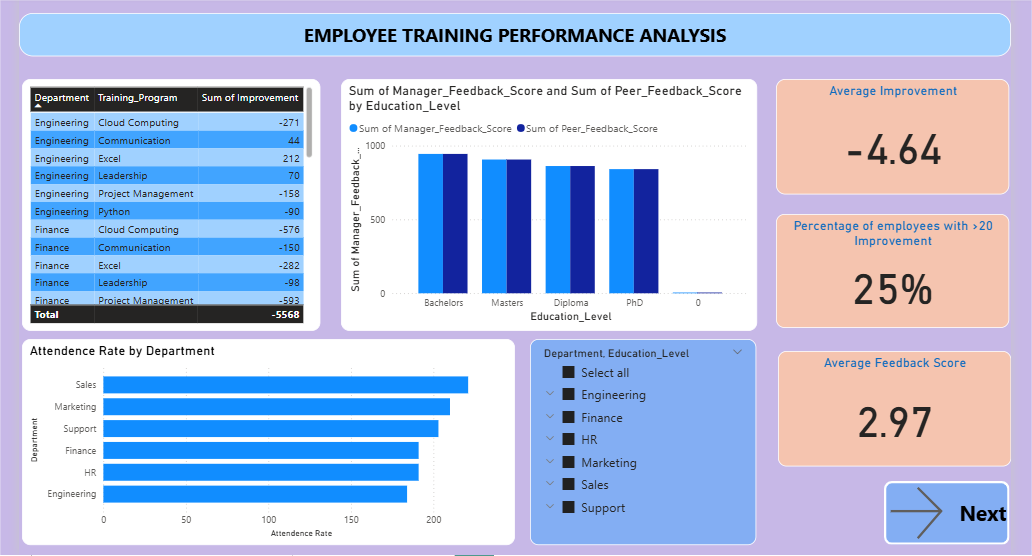

The dashboard page shown, as its layout file describes it:
{"tool":"powerbi","page":{"name":"Employee Training Performance Analysis","canvas":[1280,720],"ordinal":0},"visuals":[{"type":"textbox","box":[0,20.6,1280,56.4],"z":0},{"type":"tableEx","fields":{"Values":["employee_training_performance_d.Department","employee_training_performance_d.Training_Program","Sum(employee_training_performance_d.Improvement)"]},"box":[3.9,105.8,384.5,325.2],"z":1000},{"type":"clusteredColumnChart","fields":{"Category":["employee_training_performance_d.Education_Level"],"Y":["Sum(employee_training_performance_d.Manager_Feedback_Score)","Sum(employee_training_performance_d.Peer_Feedback_Score)"]},"box":[415.7,106,536.8,324.8],"z":2000},{"type":"barChart","fields":{"Category":["employee_training_performance_d.Department"],"Y":["employee_training_performance_d.Attendence Rate"]},"box":[4.3,441,636.1,266],"z":3000},{"type":"card","title":"Average Improvement","fields":{"Values":["Avg(employee_training_performance_d.Improvement)"]},"box":[977.3,105.5,300.7,148.9],"z":4000},{"type":"card","title":"Average Feedback Score","fields":{"Values":["Avg(employee_training_performance_d.Peer_Feedback_Score)"]},"box":[978.8,456.9,300.7,148.9],"z":5000},{"type":"card","title":"Percentage of employees with >20  Improvement","fields":{"Values":["employee_training_performance_d.Count Improvement >20"]},"box":[977.3,280.5,300.7,147.5],"z":6000},{"type":"slicer","fields":{"Values":["employee_training_performance_d.Department Hierarchy.Department","employee_training_performance_d.Department Hierarchy.Education_Level"]},"box":[659.3,441,292,266],"z":7000},{"type":"actionButton","box":[1116.1,624.6,161.9,82.4],"z":8000}]}

Visuals, with their boxes on the page's 1280x720 design canvas (x1, y1, x2, y2). These are canvas units, not pixel positions in the 1032x556 screenshot, which may show the page scaled, cropped or inside an application window:
textbox: bbox=[0, 21, 1280, 77]
tableEx - employee_training_performance_d.Department x employee_training_performance_d.Training_Program: bbox=[4, 106, 388, 431]
clusteredColumnChart - employee_training_performance_d.Education_Level x Sum(employee_training_performance_d.Manager_Feedback_Score): bbox=[416, 106, 952, 431]
barChart - employee_training_performance_d.Department x employee_training_performance_d.Attendence Rate: bbox=[4, 441, 640, 707]
"Average Improvement" card: bbox=[977, 106, 1278, 254]
"Average Feedback Score" card: bbox=[979, 457, 1280, 606]
"Percentage of employees with >20  Improvement" card: bbox=[977, 280, 1278, 428]
slicer - employee_training_performance_d.Department Hierarchy.Department x employee_training_performance_d.Department Hierarchy.Education_Level: bbox=[659, 441, 951, 707]
actionButton: bbox=[1116, 625, 1278, 707]
